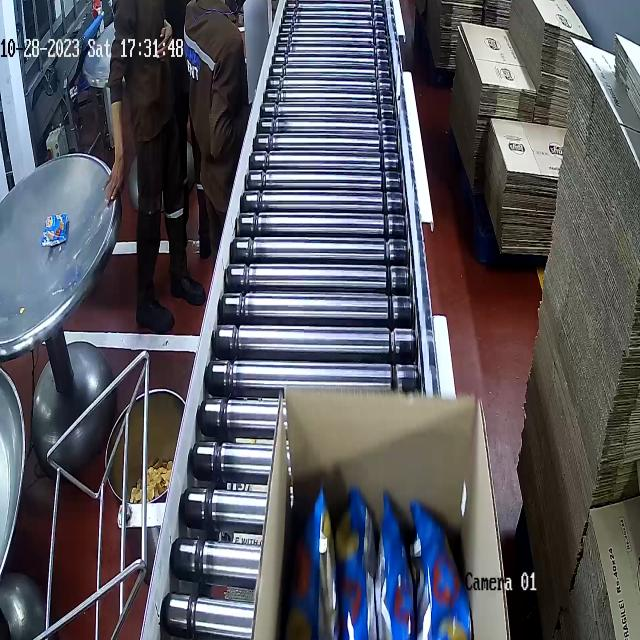PAPRIKA: (290, 478, 478, 640)
